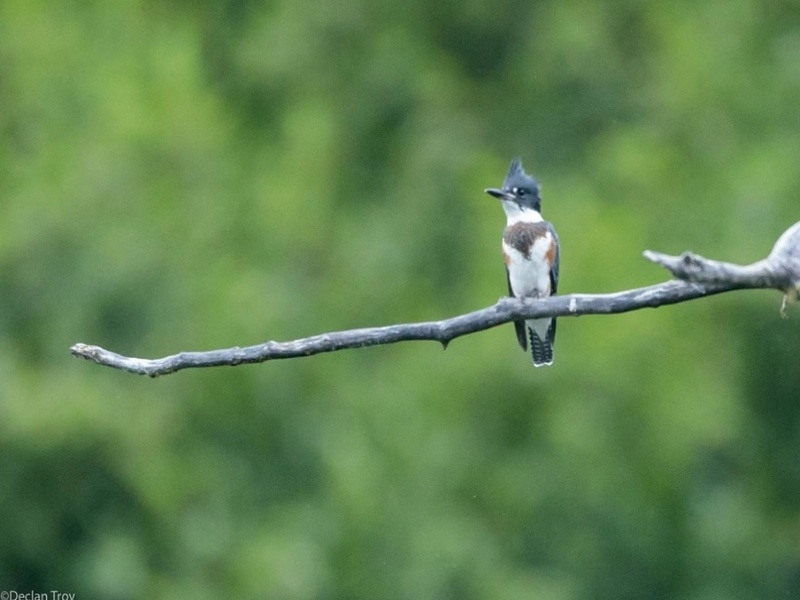kingfisher: (486, 154, 562, 370)
